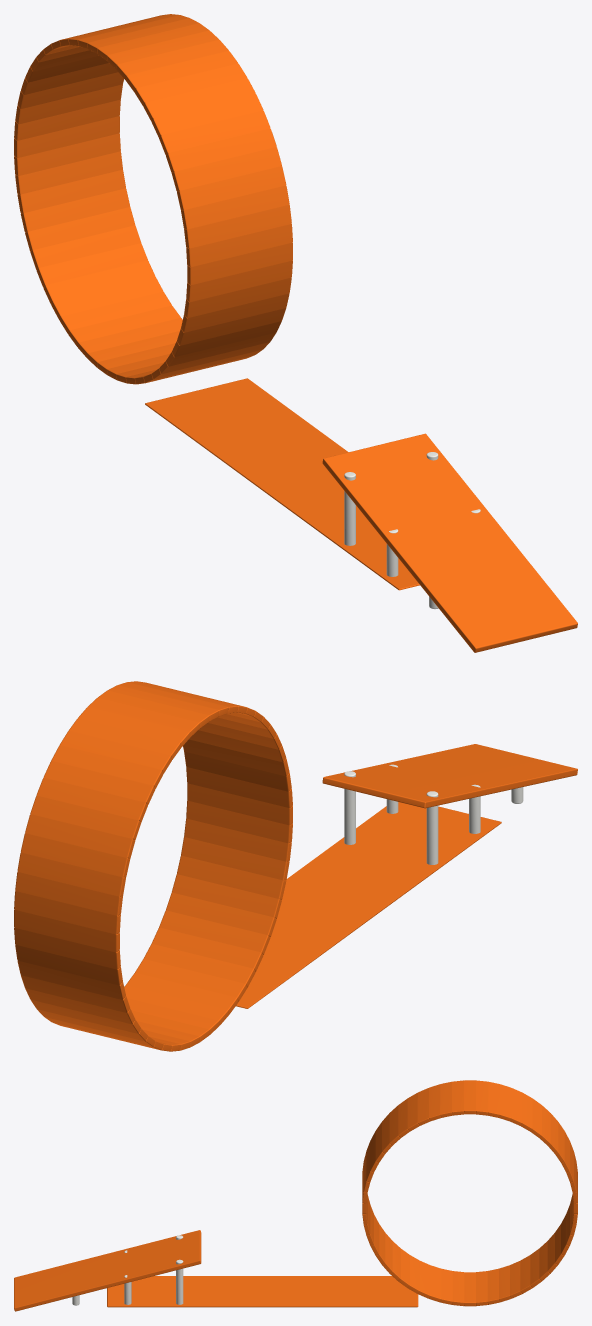
The model's file is race_track.glb.
3 views of the same model, one above another, from view 1: azimuth 30°, elevation 25°; view 2: azimuth 150°, elevation 25°; view 3: azimuth 270°, elevation 25° (orthographic). The views are drawn at different scales.
Visible parts, largest first — view 1: race_track.001; view 2: race_track.001; view 3: race_track.001.
Boxes of the visible parts, x1,y1,x2,y2 form: race_track.001: [14, 14, 577, 652]; race_track.001: [14, 681, 577, 1051]; race_track.001: [14, 1080, 577, 1311].
Size of the model in its own units: 7 by 21.36 by 54.38.
